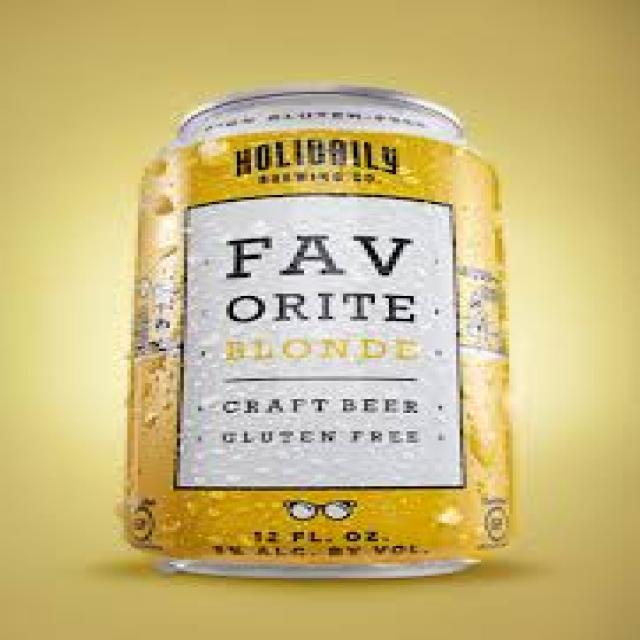Cans: (117, 78, 530, 590)
